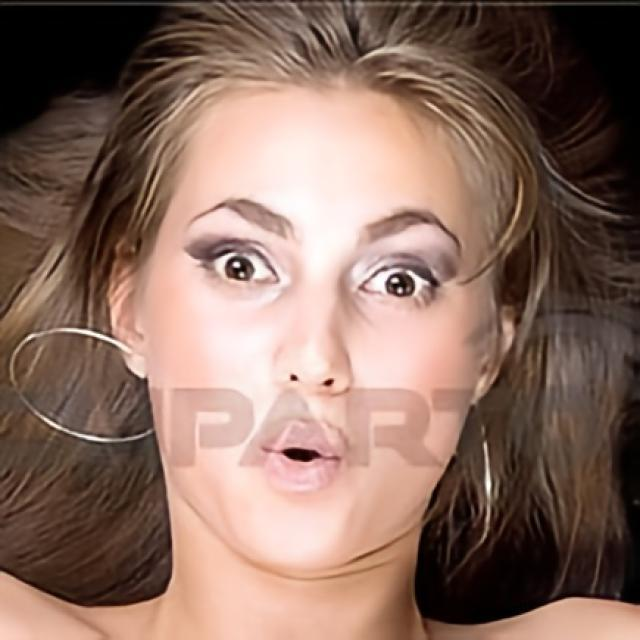surprise: (147, 80, 490, 572)
